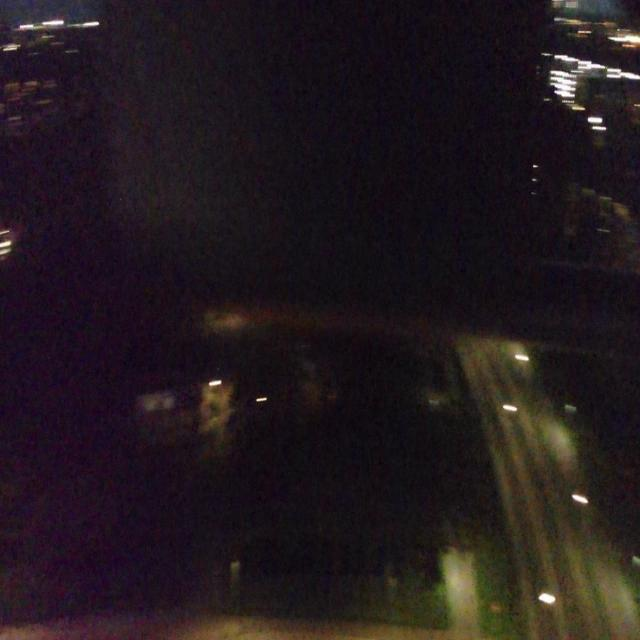Smoke: (198, 378, 236, 438)
